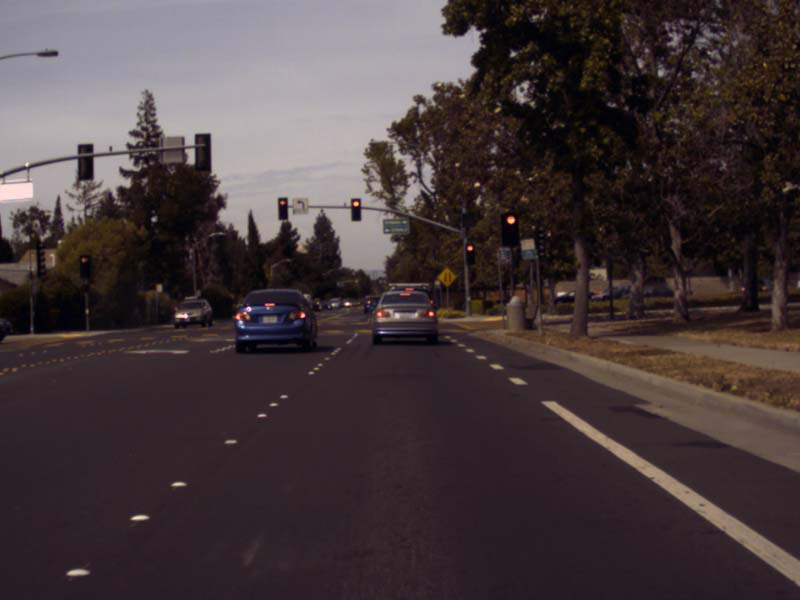Red: (501, 213, 518, 246), (79, 254, 91, 278), (351, 198, 360, 221), (278, 197, 287, 220), (465, 243, 474, 264)
